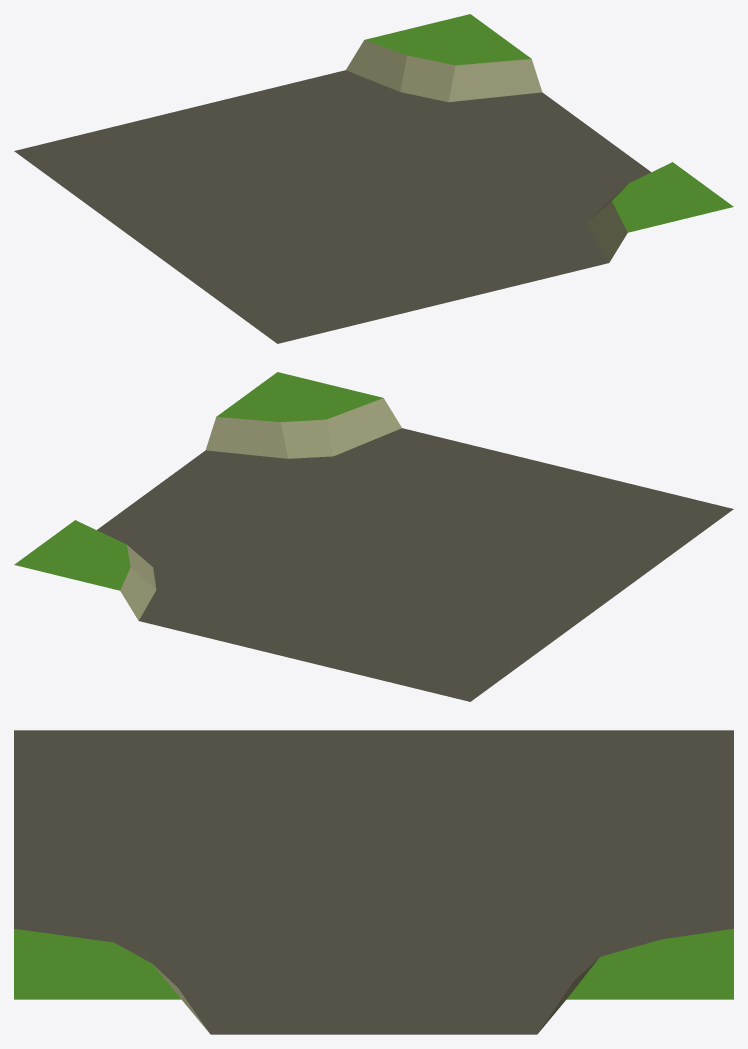
Rendered from CemeteryT.fbx.
3 renders of one model, top to bottom at view 1: azimuth 30°, elevation 25°; view 2: azimuth 150°, elevation 25°; view 3: azimuth 270°, elevation 25°, orthographic. The views are drawn at different scales.
Visible parts, largest first — view 1: CemeteryT; view 2: CemeteryT; view 3: CemeteryT.
Part boxes in pixels (bbox=[...]): CemeteryT: bbox=[14, 14, 733, 343]; CemeteryT: bbox=[14, 372, 733, 701]; CemeteryT: bbox=[14, 730, 733, 1034].
Size of the model in its own units: 500 by 26.91 by 500.
